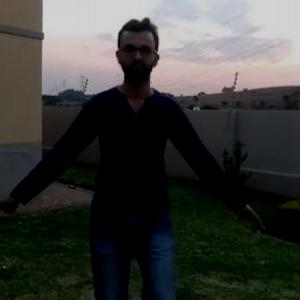land: (23, 36, 239, 299)
